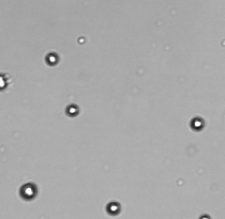Living Cell: (20, 183, 37, 200), (190, 117, 205, 131), (45, 52, 59, 66), (107, 201, 121, 215), (66, 104, 79, 116), (1, 74, 7, 91), (77, 35, 86, 44)
